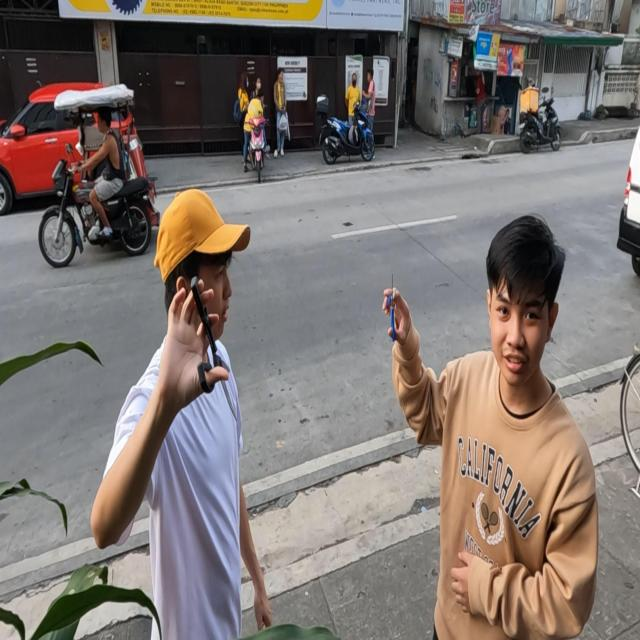scissor: (191, 276, 238, 424)
